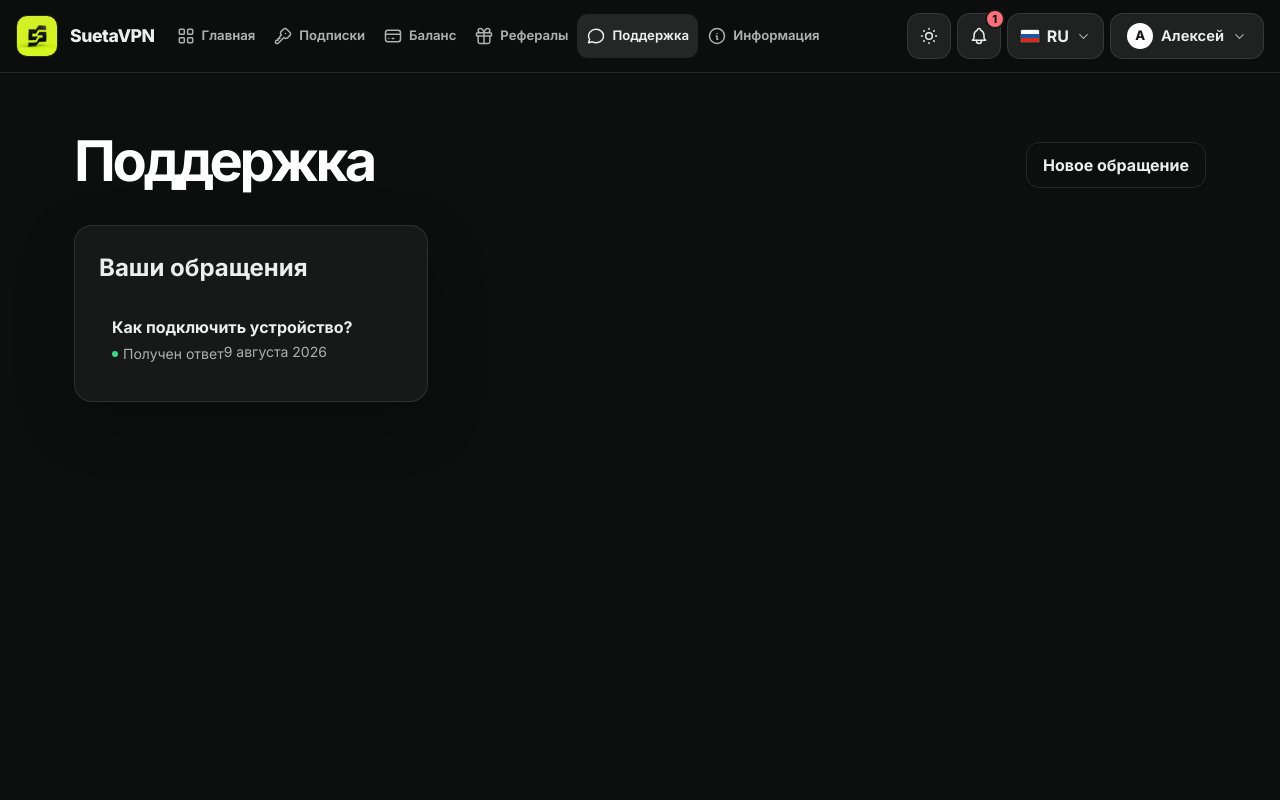
Test: поддержка на телефоне › из уведомления открывает саму переписку, минуя список
Click the button named "Открыть уведомления" at (979, 36), box x1=957 y1=13 x2=1001 y2=59
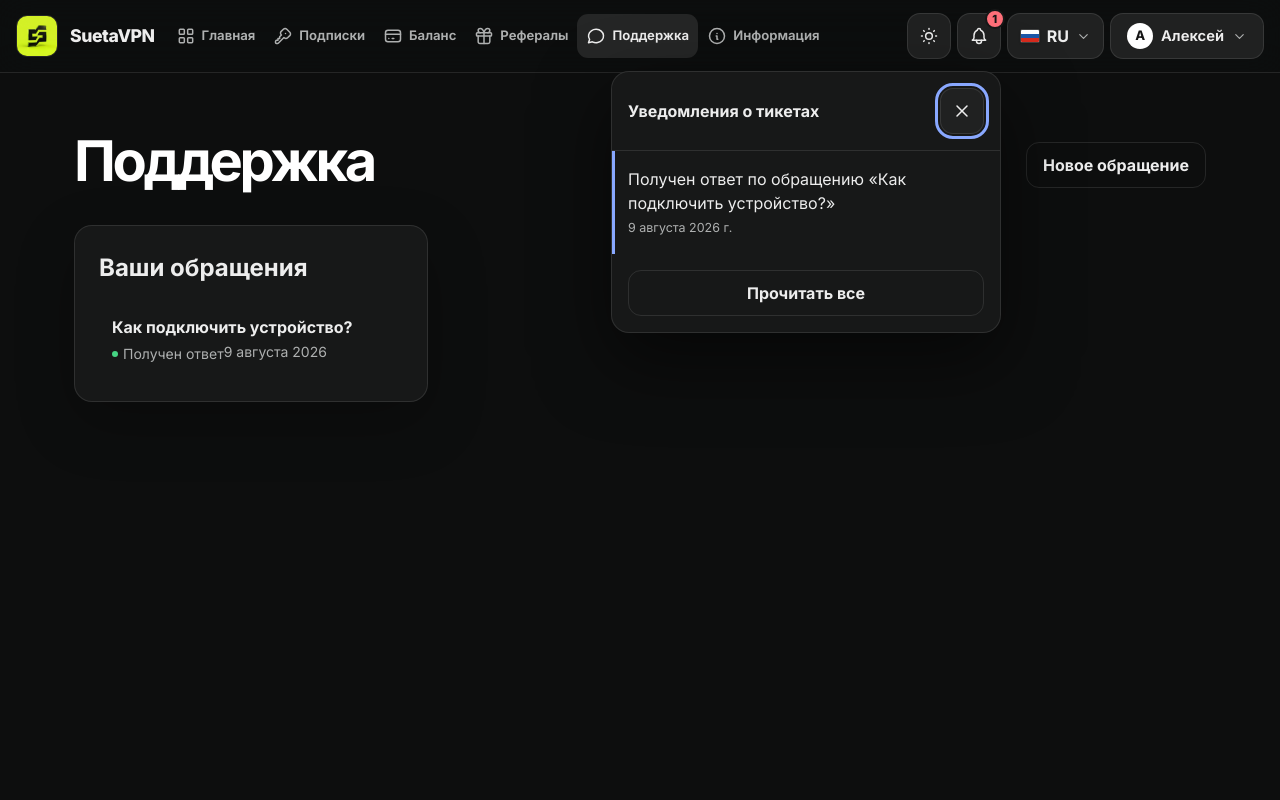
Click the link "Как подключить устройство" at (767, 202), box x1=628 y1=169 x2=906 y2=235
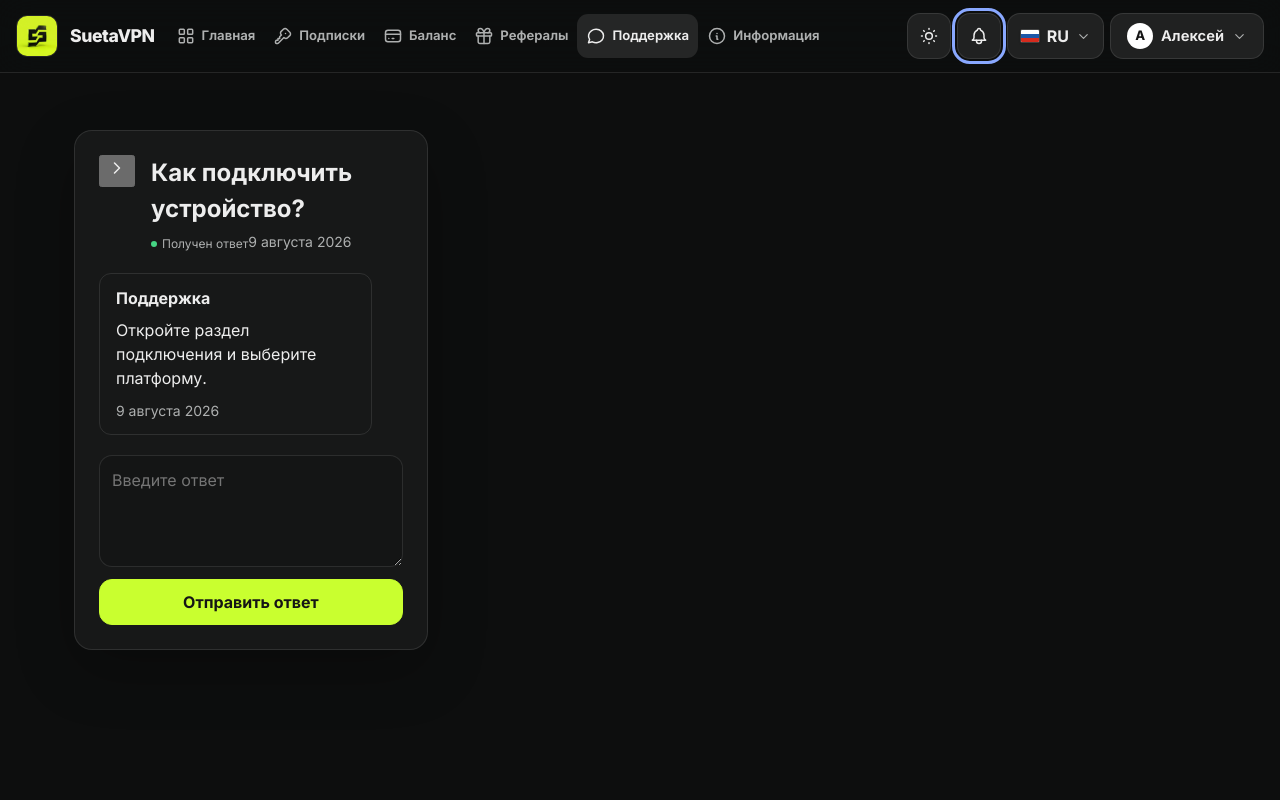
expect the list named "Переписка по обращению" is shown: met, box x1=99 y1=273 x2=403 y2=435
